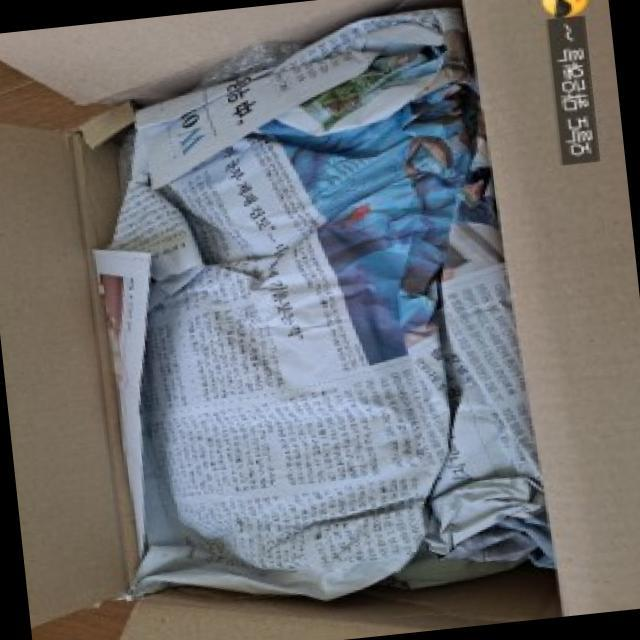reuseable_paper: (46, 0, 520, 610)
